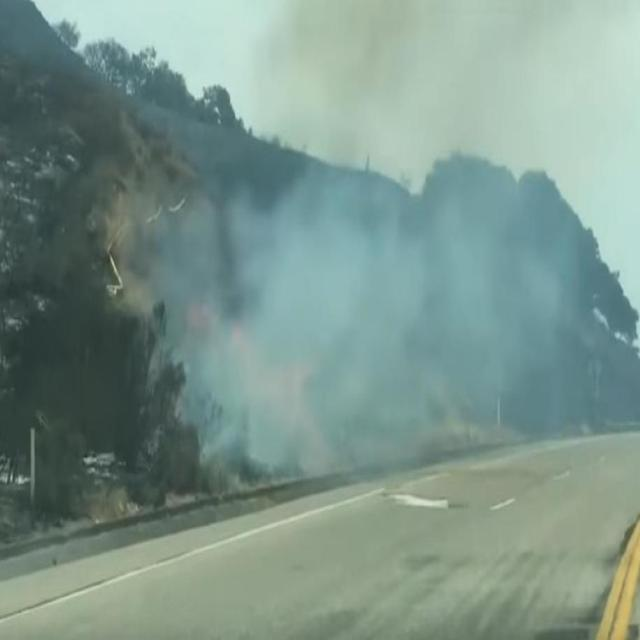Smoke: (123, 64, 629, 470)
